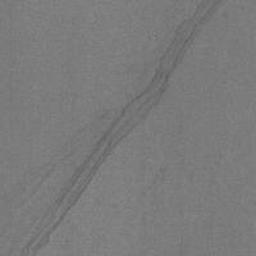Water spot: (0, 0, 228, 256)
